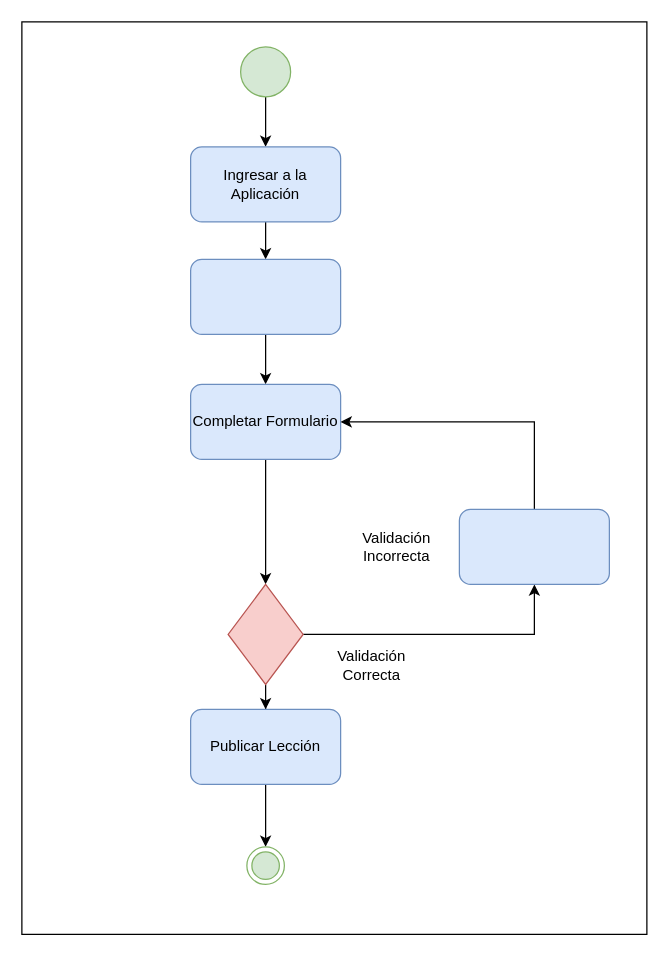
This 669x956 diagram has some shape labels left out. The shapes that lost their labels are listed below. From the top down, each one's box as (x1, y1, x2, y2) in pixels, then its label:
(189, 258, 341, 334): Registrar Lección
(458, 508, 609, 584): Redirigir Usuario
